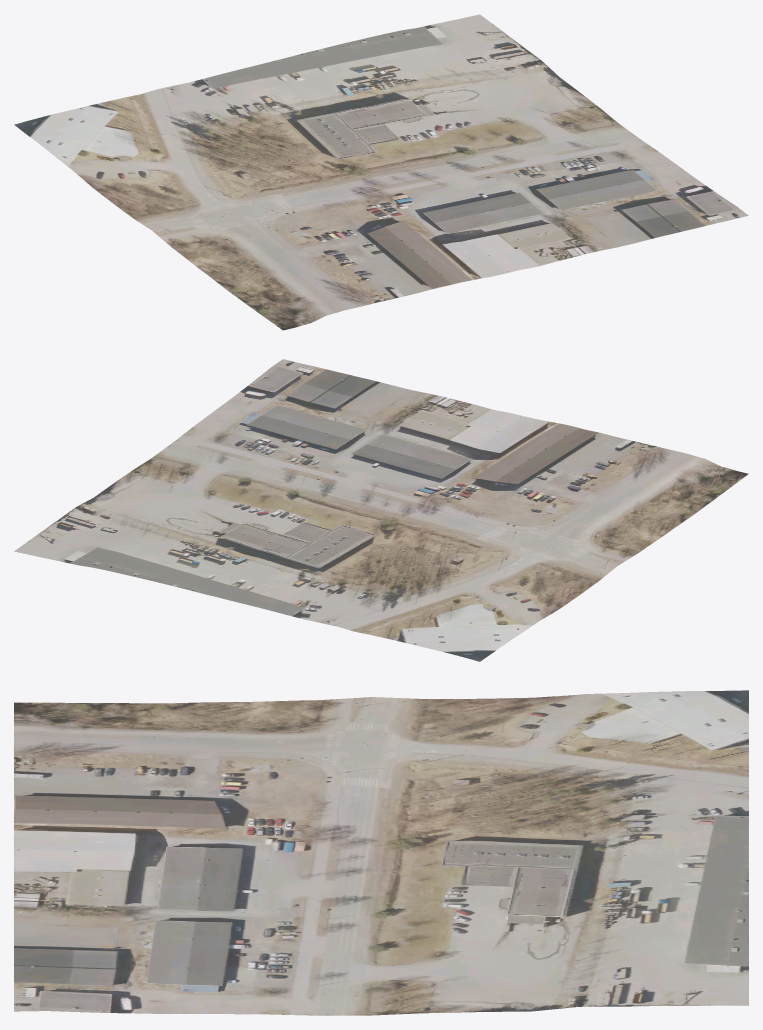
File: CM_Terrain_24493735_6815903.fbx
3 renders of one model, top to bottom at view 1: azimuth 30°, elevation 25°; view 2: azimuth 150°, elevation 25°; view 3: azimuth 270°, elevation 25°, orthographic. The views are drawn at different scales.
Parts seen in each view (by area): view 1: CM_Terrain_24493735_6815903_LOD0; view 2: CM_Terrain_24493735_6815903_LOD0; view 3: CM_Terrain_24493735_6815903_LOD0.
Part boxes in pixels (x1,y1,x2,y2): CM_Terrain_24493735_6815903_LOD0: [14, 14, 748, 330]; CM_Terrain_24493735_6815903_LOD0: [14, 359, 748, 661]; CM_Terrain_24493735_6815903_LOD0: [14, 690, 748, 1015].
Size of what is drawn, in the model's own units: 205 by 4.97 by 205.
